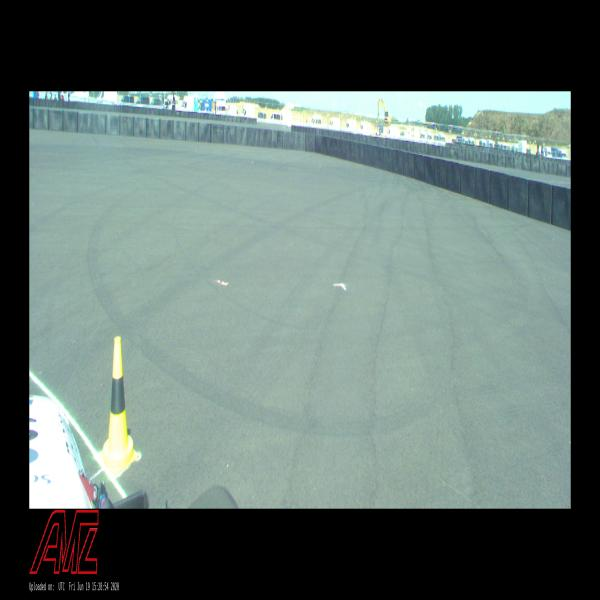yellow_cone: (100, 336, 138, 475)
